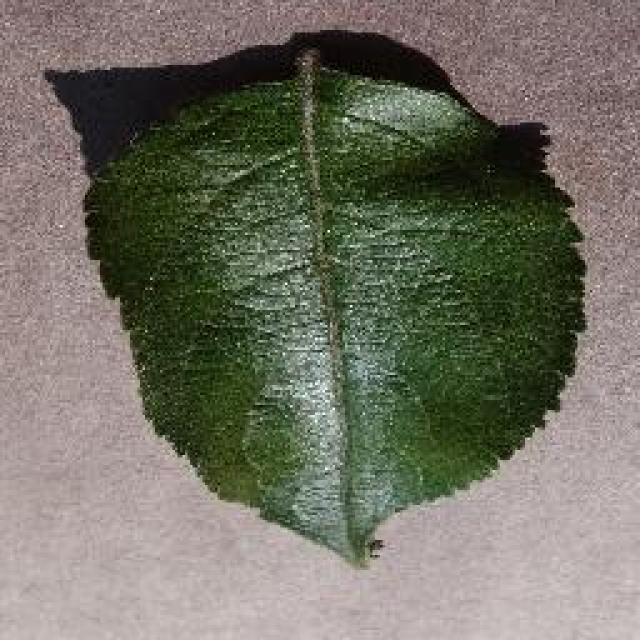apple scab disease: (78, 42, 590, 568)
